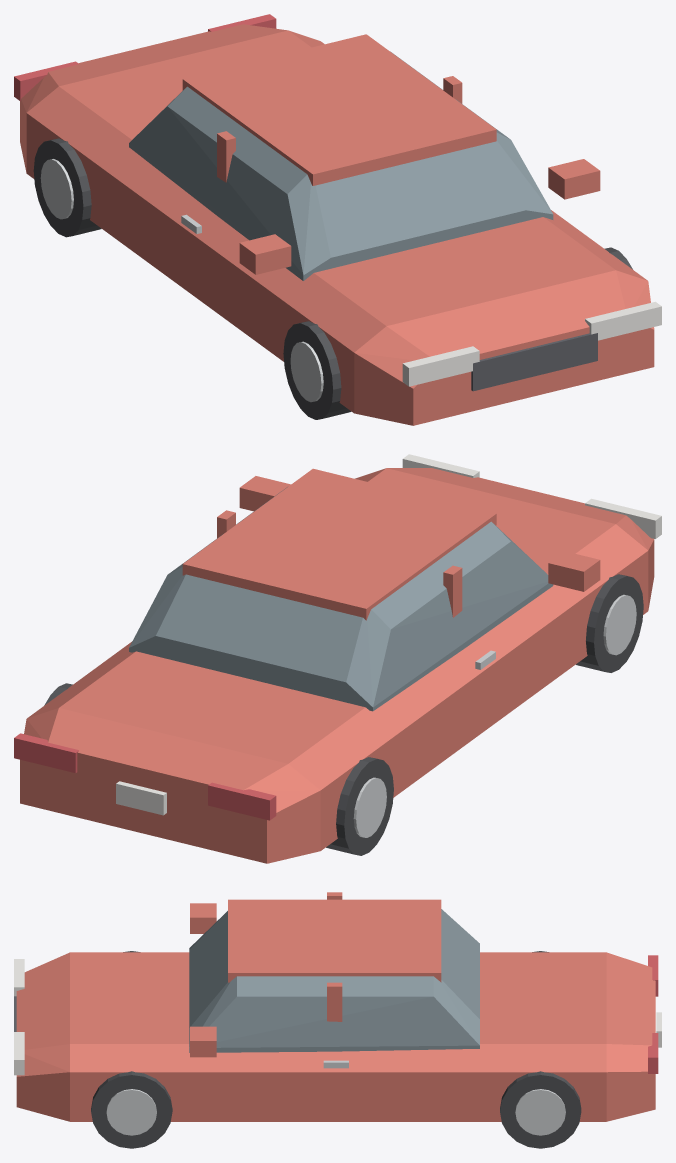
The picture shows the model from 3 angles, top to bottom: view 1: azimuth 30°, elevation 25°; view 2: azimuth 150°, elevation 25°; view 3: azimuth 270°, elevation 25°; orthographic projection. The views are drawn at different scales.
Parts seen in each view (by area): view 1: body, cabin_glass, roof, grille, wheel_-1_1_tire, wheel_-1_-1_tire, headlight_-1, headlight_1, mirror_-1, mirror_1, wheel_-1_1_rim, wheel_-1_-1_rim (+2 smaller); view 2: body, cabin_glass, roof, wheel_-1_1_tire, wheel_-1_-1_tire, taillight_-1, mirror_-1, taillight_1, wheel_-1_1_rim, wheel_-1_-1_rim, rear_plate, mirror_1 (+3 smaller); view 3: body, cabin_glass, roof, wheel_1_-1_tire, wheel_1_1_tire, wheel_1_1_rim, wheel_1_-1_rim, mirror_1, mirror_-1, pillar_1, headlight_1, taillight_1.
Boxes of the visible parts, x1,y1,x2,y2 form: body: (20,24,654,425); cabin_glass: (129,51,553,280); roof: (182,34,496,185); grille: (471,333,597,391); wheel_-1_1_tire: (283,321,351,419); wheel_-1_-1_tire: (33,138,101,237); headlight_-1: (402,346,479,386); headlight_1: (585,301,661,340); mirror_-1: (239,234,291,274); mirror_1: (548,159,600,199); wheel_-1_1_rim: (290,341,323,402); wheel_-1_-1_rim: (40,159,73,219); body: (20,468,654,863); cabin_glass: (129,487,553,711); roof: (182,468,496,620); wheel_-1_1_tire: (576,574,643,672); wheel_-1_-1_tire: (326,757,393,855); taillight_-1: (208,782,276,820); mirror_-1: (548,551,600,591); taillight_1: (14,733,78,773); wheel_-1_1_rim: (603,594,636,655); wheel_-1_-1_rim: (353,777,386,837); rear_plate: (116,781,166,815); mirror_1: (239,476,290,511); body: (16,952,655,1121); cabin_glass: (189,909,479,1052); roof: (228,899,441,982); wheel_1_-1_tire: (500,1071,581,1148); wheel_1_1_tire: (91,1071,172,1148); wheel_1_1_rim: (106,1089,156,1135); wheel_1_-1_rim: (515,1089,565,1135); mirror_1: (190,1026,216,1057); mirror_-1: (190,903,216,933); pillar_1: (327,982,342,1021); headlight_1: (14,1032,24,1075); taillight_1: (648,1033,658,1073).
Bounding box in the file's own units: 2.32 × 1.18 × 4.62.
